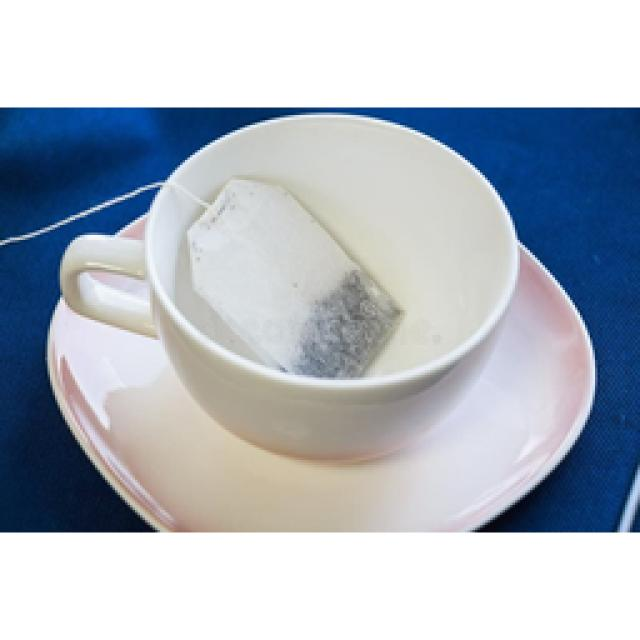tea-bags: (188, 180, 407, 380)
